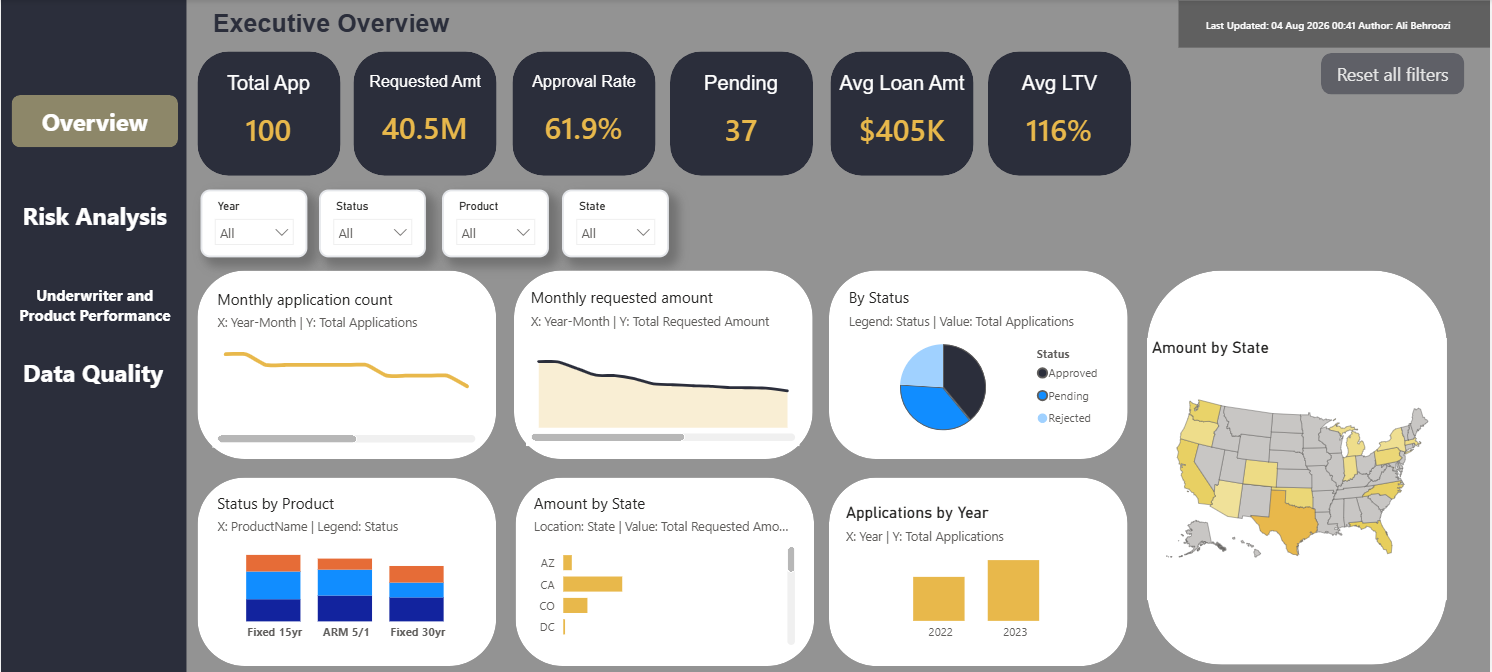

The page's visual inventory and layout, read from the dashboard file:
{"tool":"powerbi","page":{"name":"Overview","canvas":[1580,720],"ordinal":0},"visuals":[{"type":"shape","box":[0,0,196.7,920],"z":0},{"type":"actionButton","box":[11.1,101.1,176.7,55.6],"z":1000},{"type":"actionButton","box":[11.7,201.7,176.7,55],"z":2000},{"type":"actionButton","box":[11.7,288.3,176.7,71.7],"z":3000},{"type":"textbox","title":"fdg","box":[211.7,3.5,276.7,45],"z":4000},{"type":"shape","box":[208.9,54.9,151.7,131.7],"z":5000},{"type":"shape","box":[373.9,54.9,151.7,131.7],"z":6000},{"type":"shape","box":[542.2,54.9,151.7,131.7],"z":7000},{"type":"shape","box":[708.9,54.9,151.7,131.7],"z":8000},{"type":"shape","box":[878.9,54.9,151.7,131.7],"z":9000},{"type":"shape","box":[1047.2,54.9,151.7,131.7],"z":10000},{"type":"cardVisual","fields":{"Data":["Mesures.Total Applications"]},"box":[220.6,71.6,125,100],"z":11000},{"type":"cardVisual","fields":{"Data":["Mesures.Total Requested Amount"]},"box":[373.9,71.6,151.7,100],"z":12000},{"type":"cardVisual","fields":{"Data":["Mesures.Approval Rate"]},"box":[542.2,71.6,151.7,100],"z":13000},{"type":"cardVisual","fields":{"Data":["Mesures.Pending Applications"]},"box":[722.2,71.6,125,100],"z":14000},{"type":"cardVisual","fields":{"Data":["Mesures.Average Loan Amount"]},"box":[878.9,71.6,151.7,100],"z":15000},{"type":"cardVisual","fields":{"Data":["Mesures.Average LTV"]},"box":[1047.2,71.6,151.7,100],"z":16000},{"type":"slicer","fields":{"Values":["DimDate.Year"]},"box":[211.7,201.7,113.3,71.7],"z":17000},{"type":"slicer","fields":{"Values":["FactApplications.Status"]},"box":[336.7,201.7,113.3,71.7],"z":18000},{"type":"slicer","fields":{"Values":["FactApplications.ProductID"]},"box":[468.3,201.7,113.3,71.7],"z":19000},{"type":"slicer","fields":{"Values":["DimProperties.State"]},"box":[595,201.7,113.3,71.7],"z":20000},{"type":"shape","box":[208.3,288.3,316.7,200],"z":21000},{"type":"shape","box":[207.7,506.8,316.7,200],"z":22000},{"type":"shape","box":[543.3,288.3,316.7,200],"z":23000},{"type":"shape","box":[878.1,288.3,316.7,200],"z":24000},{"type":"shape","box":[546.1,506.8,316.7,200],"z":25000},{"type":"shape","box":[877.5,506.8,316.7,200],"z":26000},{"type":"lineChart","title":" Monthly application count","fields":{"Category":["DimDate.Yaear_Month"],"Y":["Mesures.Total Applications"]},"box":[225,306.7,283.3,168.3],"z":27000},{"type":"areaChart","title":" Monthly requested amount","fields":{"Category":["DimDate.Yaear_Month"],"Y":["Mesures.Total Requested Amount"]},"box":[556.7,305,290,168.3],"z":28000},{"type":"pieChart","title":"By Status","fields":{"Y":["Mesures.Total Applications"],"Category":["FactApplications.Status"]},"box":[893.3,305,283.3,168.3],"z":29000},{"type":"columnChart","title":"Status by Product","fields":{"Category":["DimProducts.ProductName"],"Series":["FactApplications.Status"],"Y":["Mesures.Total Applications"]},"box":[224.4,523.5,283.3,166.7],"z":30000},{"type":"shape","box":[1400,58,152,44],"z":31000},{"type":"clusteredBarChart","title":"Amount by State","fields":{"Category":["DimProperties.State"],"Y":["Mesures.Total Requested Amount"]},"box":[559.4,523.5,286.7,166.7],"z":32000},{"type":"clusteredColumnChart","title":"Applications by Year","fields":{"Y":["Mesures.Total Applications"],"Category":["DimDate.Year"]},"box":[891.1,535.2,290,155],"z":33000},{"type":"shape","box":[1216,288,318,418],"z":34000},{"type":"shapeMap","title":"Amount by State","fields":{"Category":["DimProperties.State"],"Value":["Mesures.Total Applications"]},"box":[1216,360,318,278],"z":35000},{"type":"actionButton","box":[10,360,176,72],"z":36000},{"type":"cardVisual","fields":{"Data":["Mesures.Report Information"]},"box":[1248,2,332,50],"z":37000}]}

Visuals, with their boxes in screenshot pixels (x1, y1, x2, y2), scaled from the page's 1580x720 canvas onto the 1492x672 screenshot:
shape: left=0, top=0, right=186, bottom=671
actionButton: left=10, top=94, right=177, bottom=146
actionButton: left=11, top=188, right=178, bottom=240
actionButton: left=11, top=269, right=178, bottom=336
"fdg" textbox: left=200, top=3, right=461, bottom=45
shape: left=197, top=51, right=341, bottom=174
shape: left=353, top=51, right=496, bottom=174
shape: left=512, top=51, right=655, bottom=174
shape: left=669, top=51, right=813, bottom=174
shape: left=830, top=51, right=973, bottom=174
shape: left=989, top=51, right=1132, bottom=174
cardVisual - Mesures.Total Applications: left=208, top=67, right=326, bottom=160
cardVisual - Mesures.Total Requested Amount: left=353, top=67, right=496, bottom=160
cardVisual - Mesures.Approval Rate: left=512, top=67, right=655, bottom=160
cardVisual - Mesures.Pending Applications: left=682, top=67, right=800, bottom=160
cardVisual - Mesures.Average Loan Amount: left=830, top=67, right=973, bottom=160
cardVisual - Mesures.Average LTV: left=989, top=67, right=1132, bottom=160
slicer - DimDate.Year: left=200, top=188, right=307, bottom=255
slicer - FactApplications.Status: left=318, top=188, right=425, bottom=255
slicer - FactApplications.ProductID: left=442, top=188, right=549, bottom=255
slicer - DimProperties.State: left=562, top=188, right=669, bottom=255
shape: left=197, top=269, right=496, bottom=456
shape: left=196, top=473, right=495, bottom=660
shape: left=513, top=269, right=812, bottom=456
shape: left=829, top=269, right=1128, bottom=456
shape: left=516, top=473, right=815, bottom=660
shape: left=829, top=473, right=1128, bottom=660
" Monthly application count" lineChart: left=212, top=286, right=480, bottom=443
" Monthly requested amount" areaChart: left=526, top=285, right=800, bottom=442
"By Status" pieChart: left=844, top=285, right=1111, bottom=442
"Status by Product" columnChart: left=212, top=489, right=479, bottom=644
shape: left=1322, top=54, right=1466, bottom=95
"Amount by State" clusteredBarChart: left=528, top=489, right=799, bottom=644
"Applications by Year" clusteredColumnChart: left=841, top=500, right=1115, bottom=644
shape: left=1148, top=269, right=1449, bottom=659
"Amount by State" shapeMap: left=1148, top=336, right=1449, bottom=595
actionButton: left=9, top=336, right=176, bottom=403
cardVisual - Mesures.Report Information: left=1178, top=2, right=1491, bottom=49
